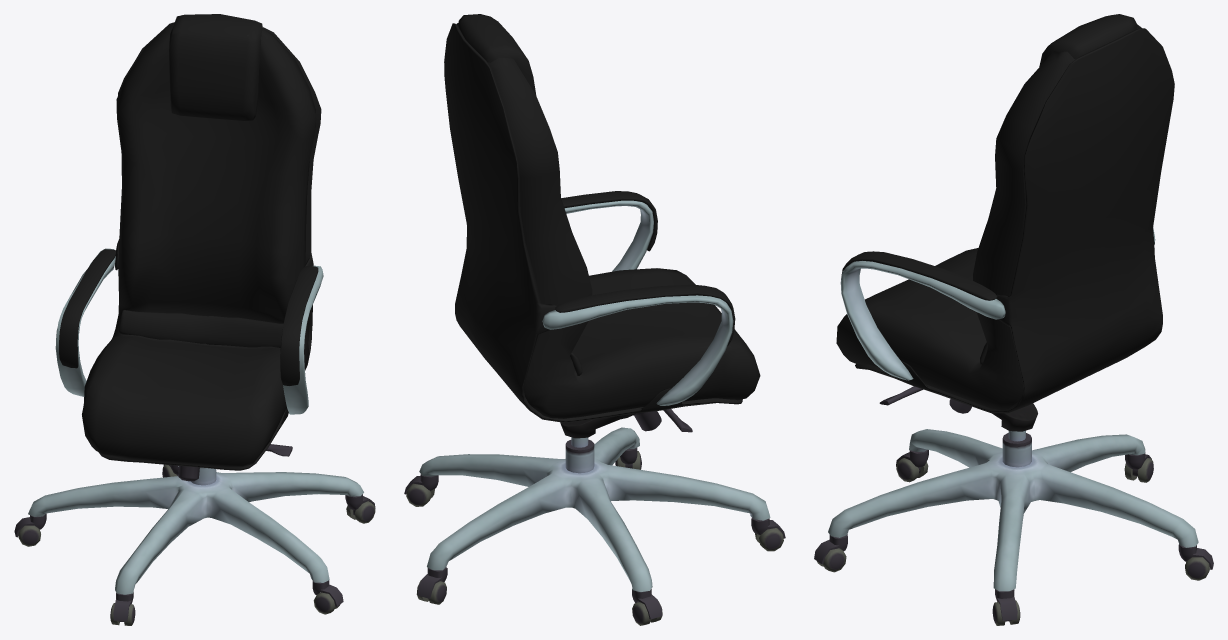
The model's file is officeChair.glb.
3 views of the same model, side by side, from view 1: azimuth 30°, elevation 25°; view 2: azimuth 150°, elevation 25°; view 3: azimuth 270°, elevation 25° (orthographic). The views are drawn at different scales.
Parts seen in each view (by area): view 1: officeChair.001; view 2: officeChair.001; view 3: officeChair.001.
Boxes of the visible parts, x1=… form: officeChair.001: x1=14, y1=14, x2=375, y2=625; officeChair.001: x1=404, y1=14, x2=785, y2=625; officeChair.001: x1=814, y1=14, x2=1213, y2=625.
Size of the model in its own units: 2.84 by 4.39 by 2.89.
Materials: 1 (1 with a texture image).
